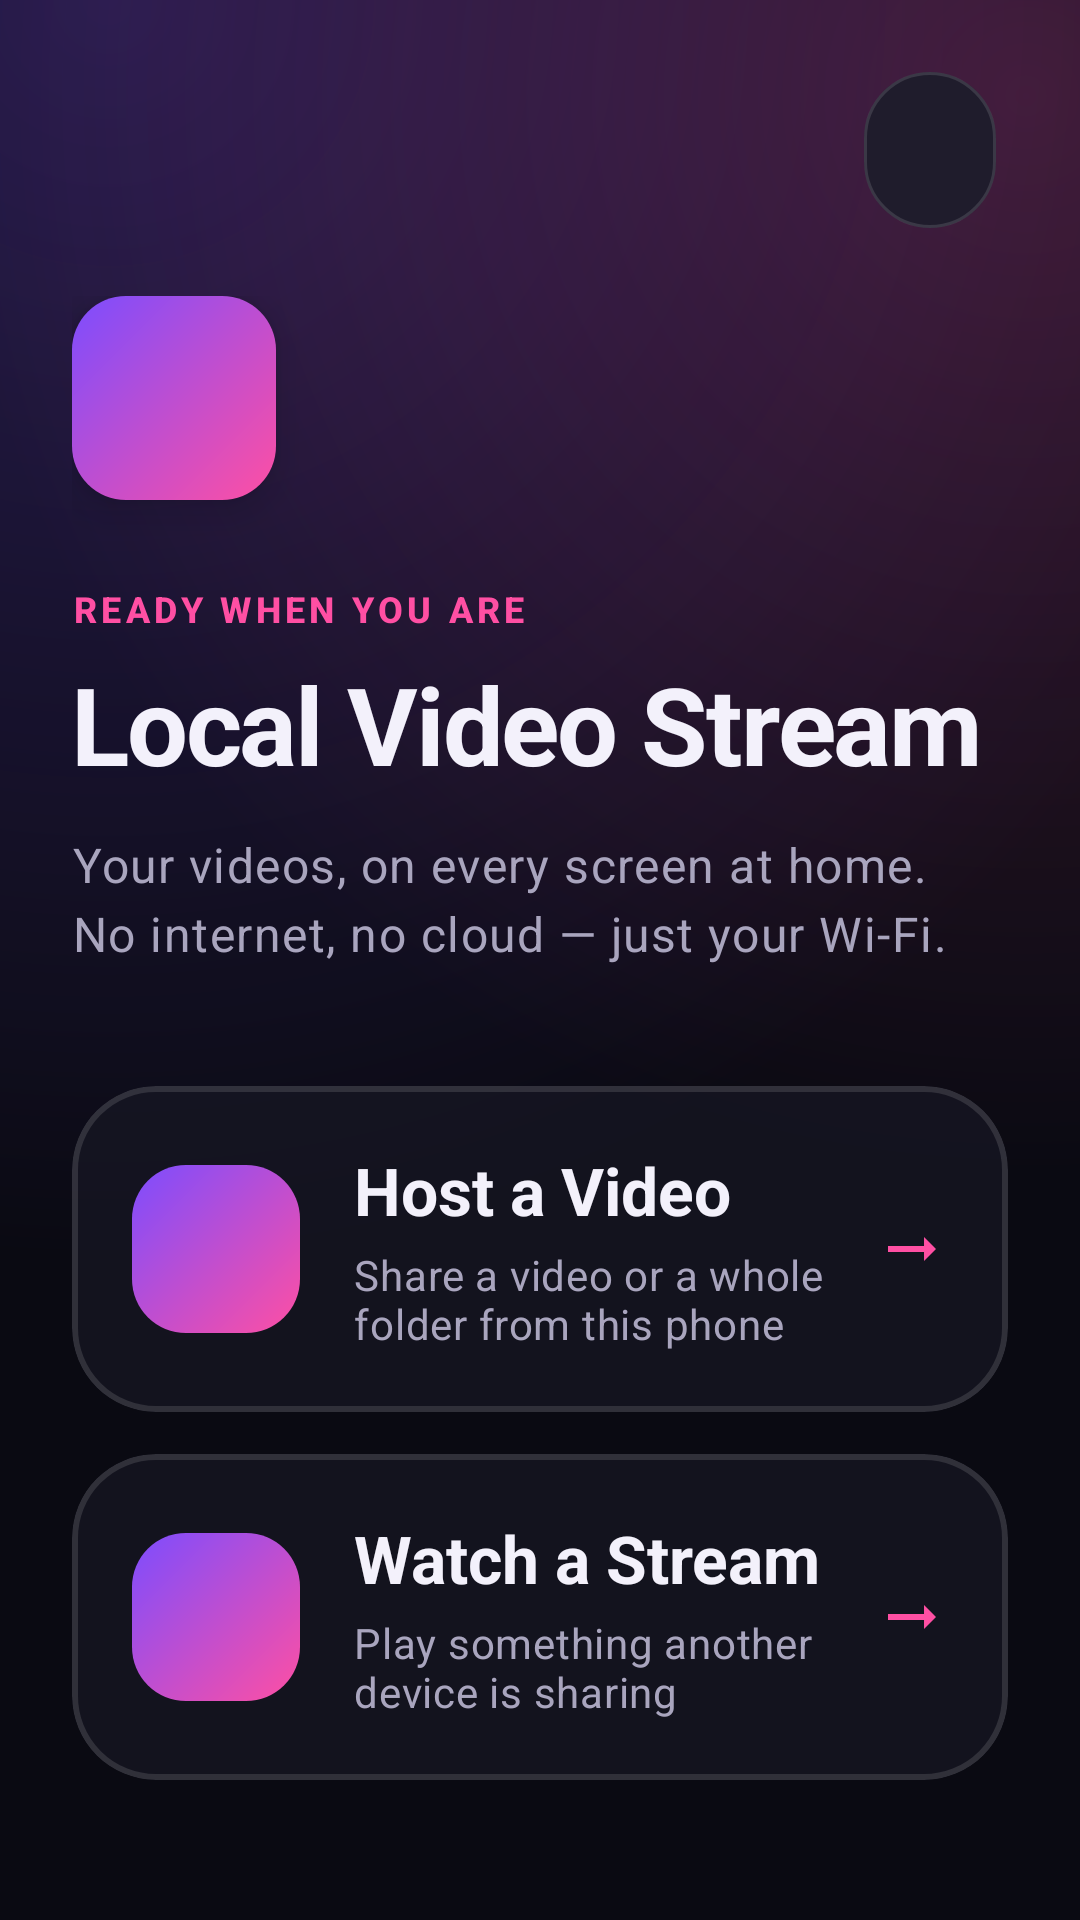

Where to tap for icons on this 1080×1920 app screen, as (x,y):
arrow forward: (912,1249), (912,1617)
